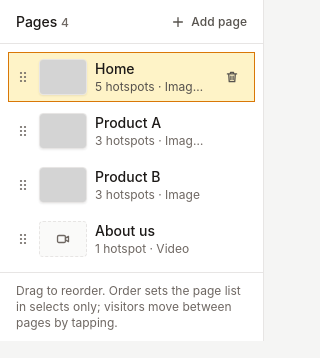
Test: PageList (spec PG-1) › renaming › renames on double-click and Enter
Double-click the text "Home" at [115, 68], box x1=95 y1=60 x2=134 y2=77
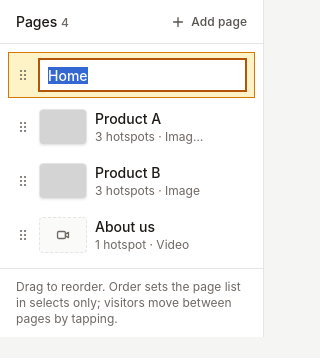
Replace the text in the field named "Page name" with "Start" at [142, 75], box x1=39 y1=59 x2=246 y2=91
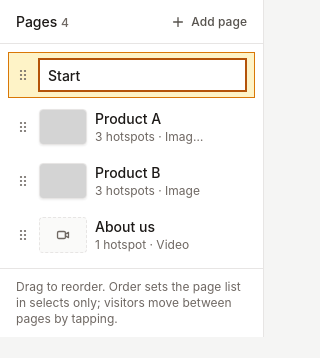
Press Enter in the field named "Page name", box x1=39 y1=59 x2=246 y2=91
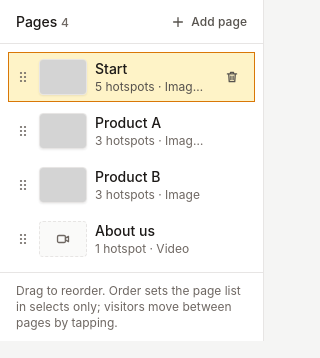
Check: the text "Start" is shown, box x1=95 y1=60 x2=127 y2=77
Check: the field is gone
